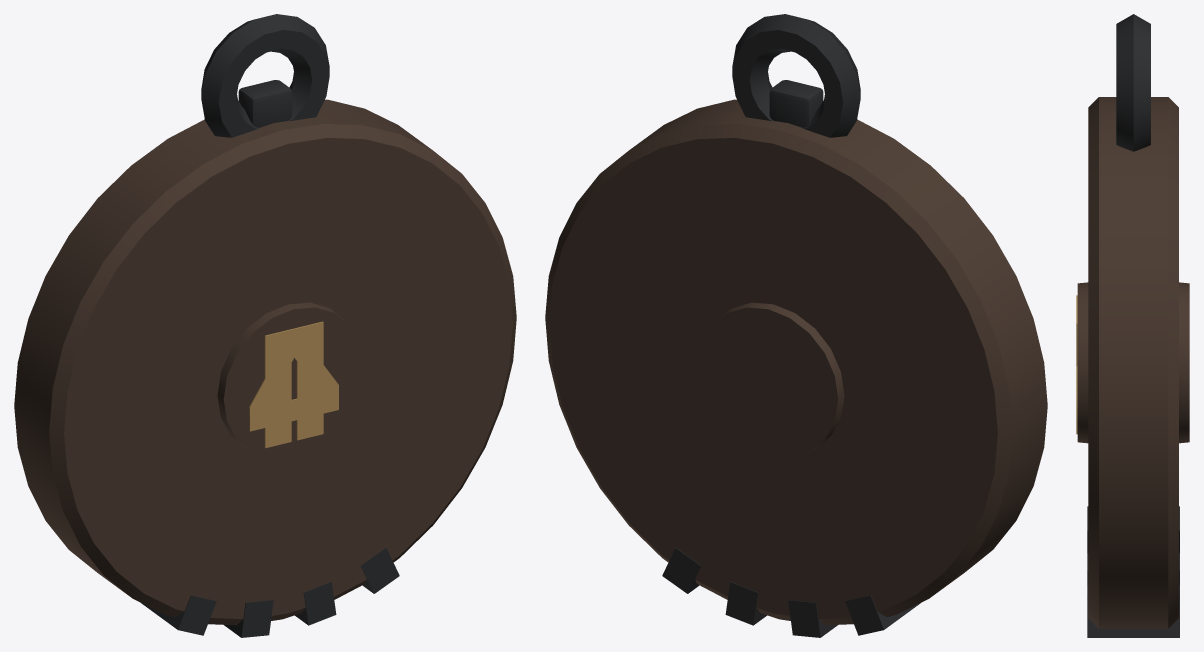
The model's file is weight_4.glb.
The picture shows the model from 3 angles, left to right: view 1: azimuth 30°, elevation 25°; view 2: azimuth 150°, elevation 25°; view 3: azimuth 270°, elevation 25°; orthographic projection.
Parts seen in each view (by area): view 1: weight_4; view 2: weight_4; view 3: weight_4.
Boxes of the visible parts, <box> form: weight_4: <box>14,14,516,637</box>; weight_4: <box>545,14,1047,637</box>; weight_4: <box>1076,14,1189,637</box>.
Size of the model in its own units: 0.2 by 0.2439 by 0.0425.
